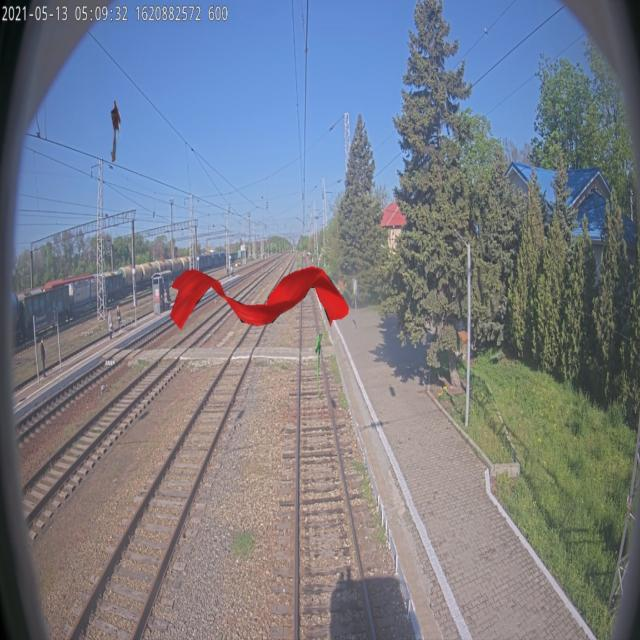floating object: (170, 266, 349, 330), (110, 98, 121, 162), (314, 333, 322, 397)
